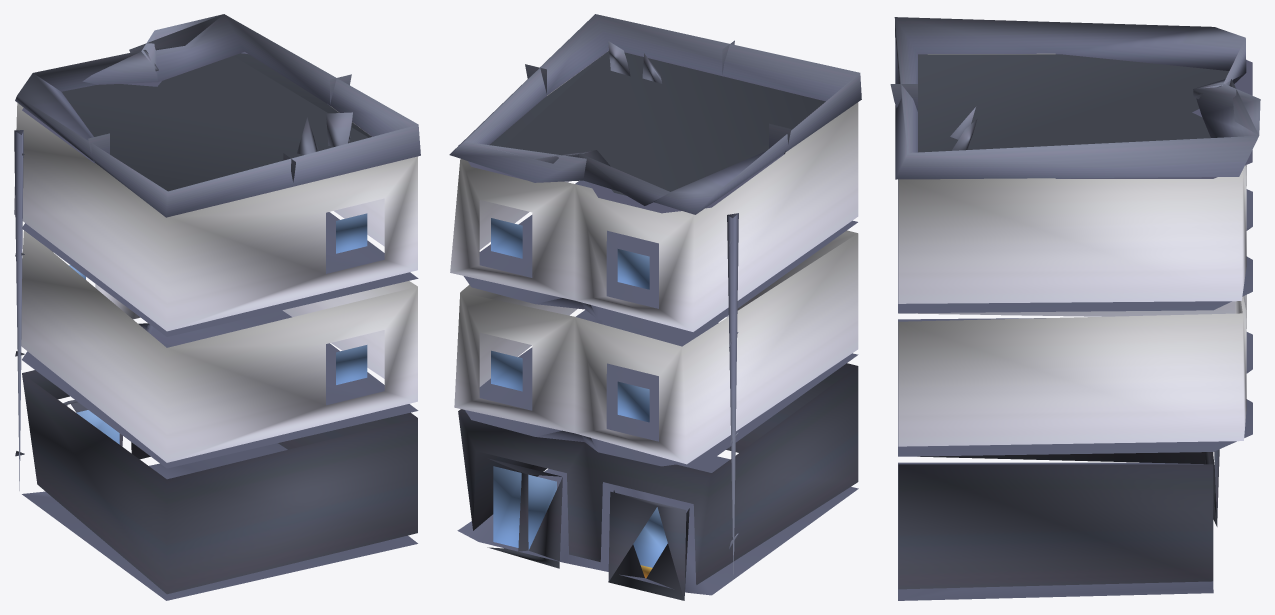
The model's file is tower-a-low.glb.
3 views of the same model, side by side, from view 1: azimuth 30°, elevation 25°; view 2: azimuth 150°, elevation 25°; view 3: azimuth 270°, elevation 25° (orthographic). The views are drawn at different scales.
Visible parts, largest first — view 1: building-a baked; view 2: building-a baked; view 3: building-a baked.
Part boxes in pixels (<box>): building-a baked: <box>14,14,420,600</box>; building-a baked: <box>449,14,861,600</box>; building-a baked: <box>890,17,1260,600</box>.
Size of the model in its own units: 18.76 by 28 by 20.37.
1 material, 1 textured.
